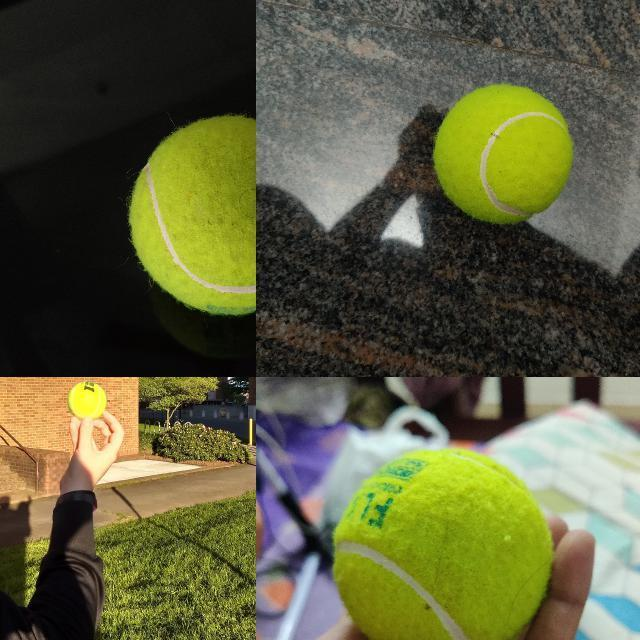tennis-ball: (332, 449, 554, 639), (126, 115, 255, 316), (434, 84, 573, 225), (67, 381, 108, 419)
